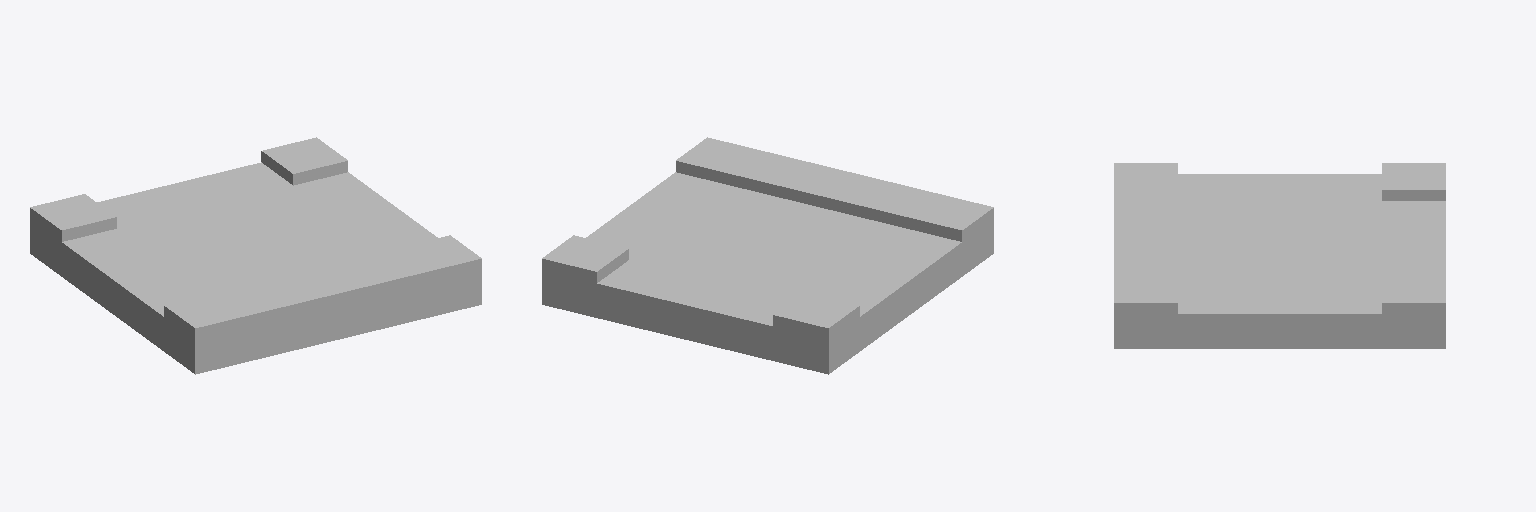
The model's file is tile_t.obj.
3 renders of one model, left to right at view 1: azimuth 30°, elevation 25°; view 2: azimuth 150°, elevation 25°; view 3: azimuth 270°, elevation 25°, orthographic.
Parts seen in each view (by area): view 1: tile_t; view 2: tile_t; view 3: tile_t.
Part boxes in pixels (bbox=[...]): tile_t: bbox=[30, 137, 481, 374]; tile_t: bbox=[542, 137, 993, 374]; tile_t: bbox=[1114, 163, 1445, 348].
Size of the model in its own units: 6.5 by 1 by 6.5.